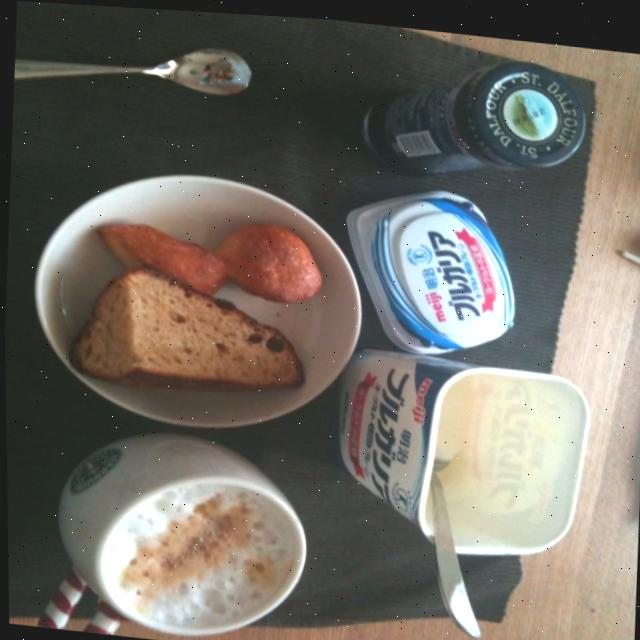面包点心: (31, 158, 377, 437)
